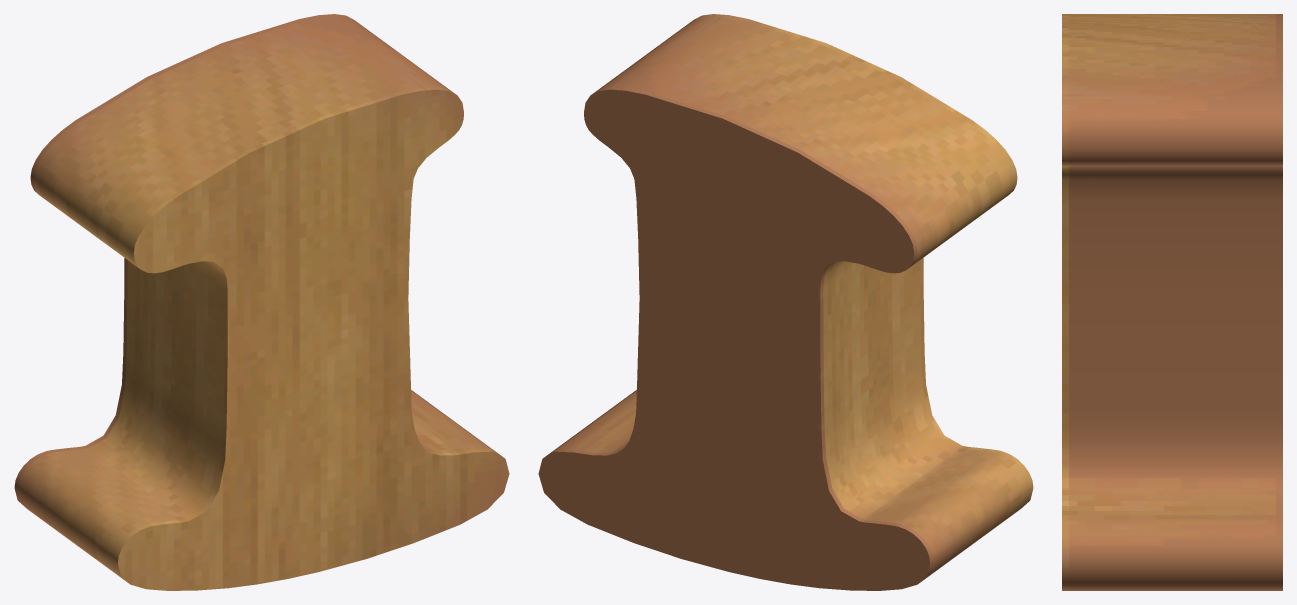
3 views of the same model, side by side, from view 1: azimuth 30°, elevation 25°; view 2: azimuth 150°, elevation 25°; view 3: azimuth 270°, elevation 25° (orthographic). The views are drawn at different scales.
Visible parts, largest first — view 1: node_id40; view 2: node_id40; view 3: node_id40.
Boxes of the visible parts, bbox=[...] form: node_id40: bbox=[14, 14, 509, 590]; node_id40: bbox=[538, 14, 1033, 590]; node_id40: bbox=[1062, 14, 1282, 590].
Bounding box in the file's own units: 0.0329 × 0.0366 × 0.015.
1 material, 1 textured.
